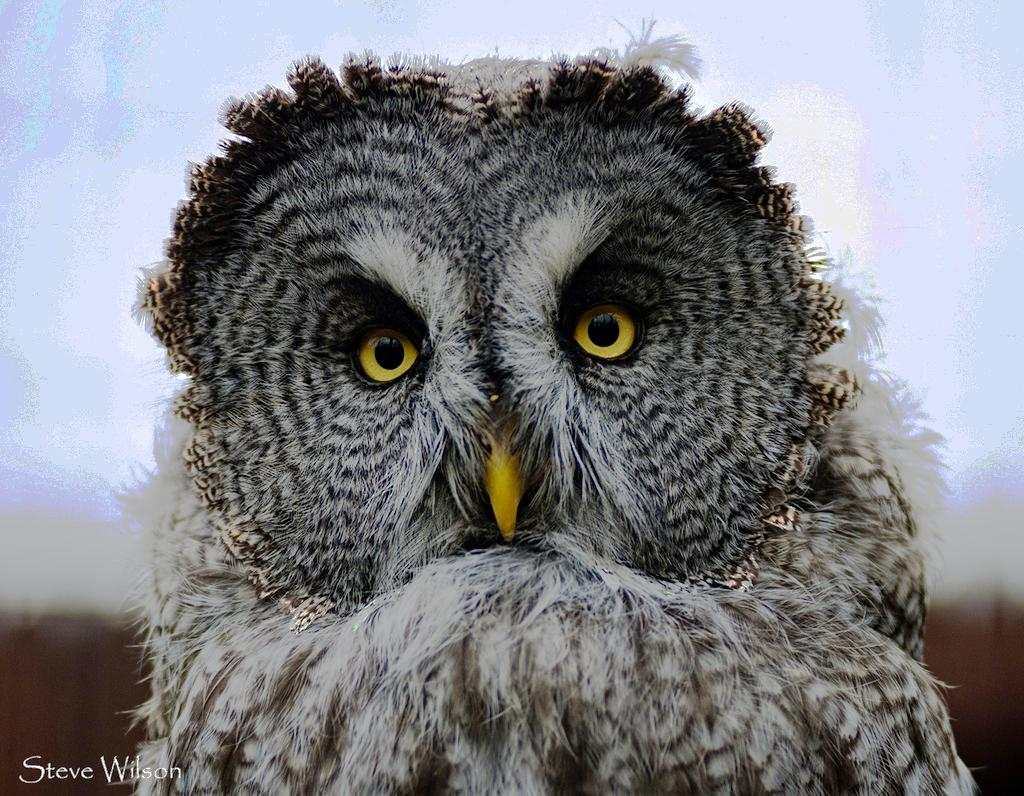Owl: (123, 56, 976, 796)
